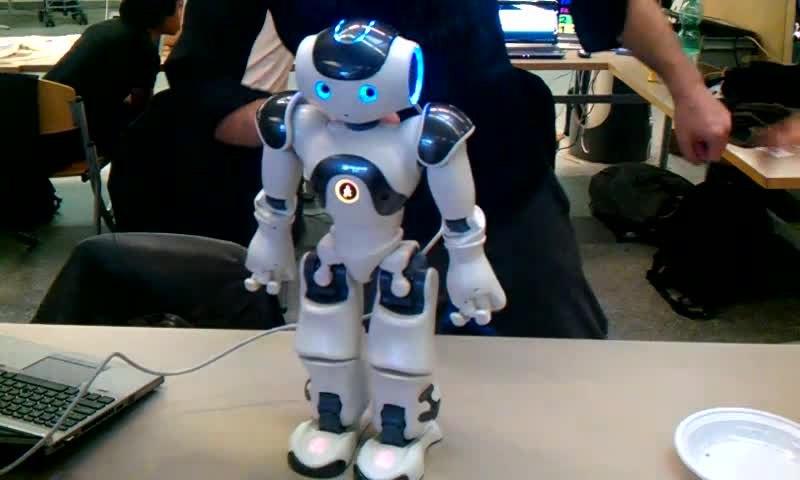nao: (212, 6, 555, 480)
